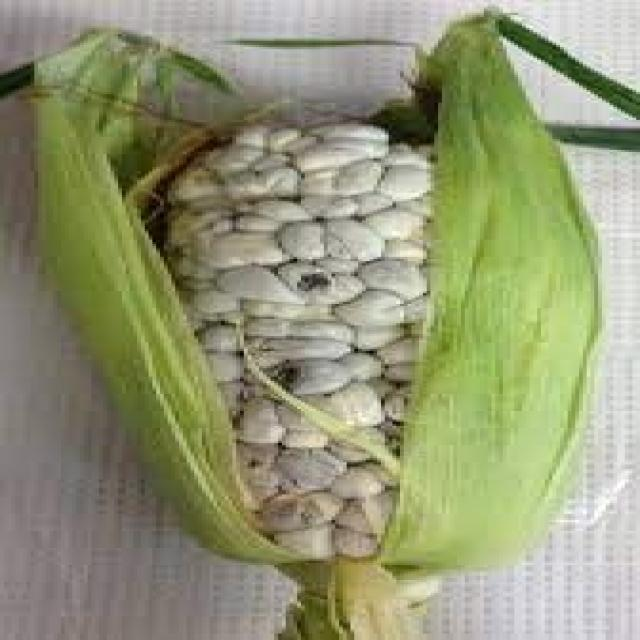Leaf_Scald: (16, 33, 614, 581)
